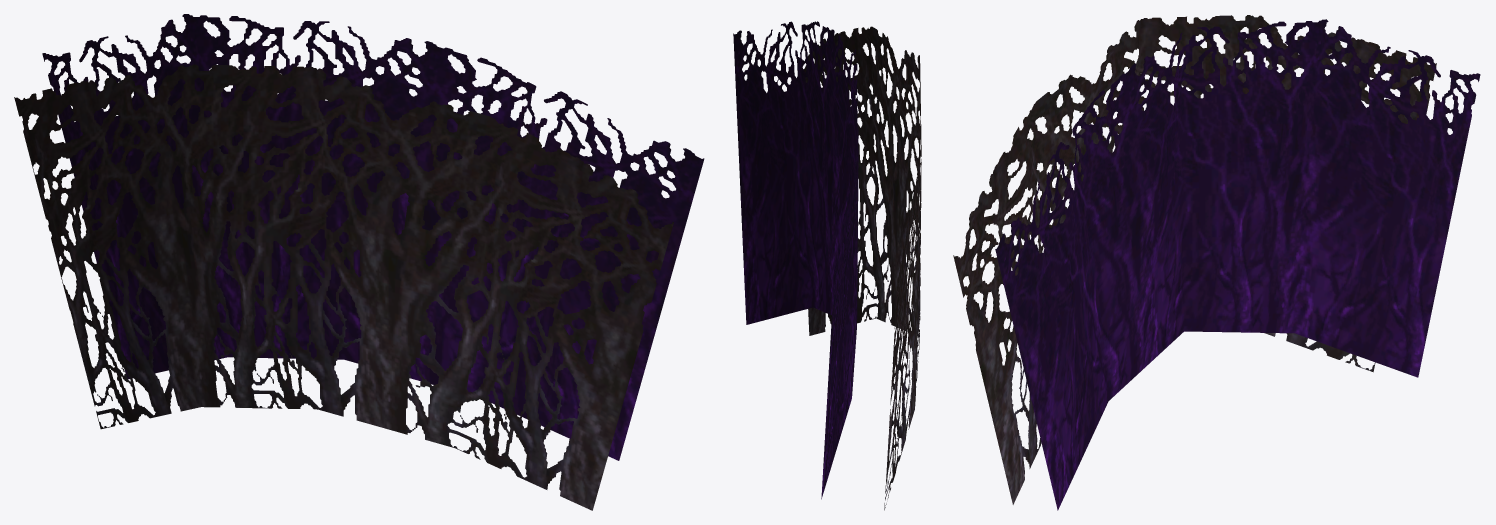
The model's file is EKH_ENTRANCE_PS_EN_TREE_LINE9398377.fbx.
3 renders of one model, left to right at view 1: azimuth 30°, elevation 25°; view 2: azimuth 150°, elevation 25°; view 3: azimuth 270°, elevation 25°, orthographic. The views are drawn at different scales.
Visible parts, largest first — view 1: EKH_ENTRANCE_PS_EN_TREE_LINE9398377; view 2: EKH_ENTRANCE_PS_EN_TREE_LINE9398377; view 3: EKH_ENTRANCE_PS_EN_TREE_LINE9398377.
Part boxes in pixels (x1=…): EKH_ENTRANCE_PS_EN_TREE_LINE9398377: x1=14, y1=14, x2=704, y2=510; EKH_ENTRANCE_PS_EN_TREE_LINE9398377: x1=733, y1=21, x2=921, y2=510; EKH_ENTRANCE_PS_EN_TREE_LINE9398377: x1=953, y1=15, x2=1480, y2=510.
Bounding box in the file's own units: 233329 × 231333 × 268563.
2 materials, 2 textured.
